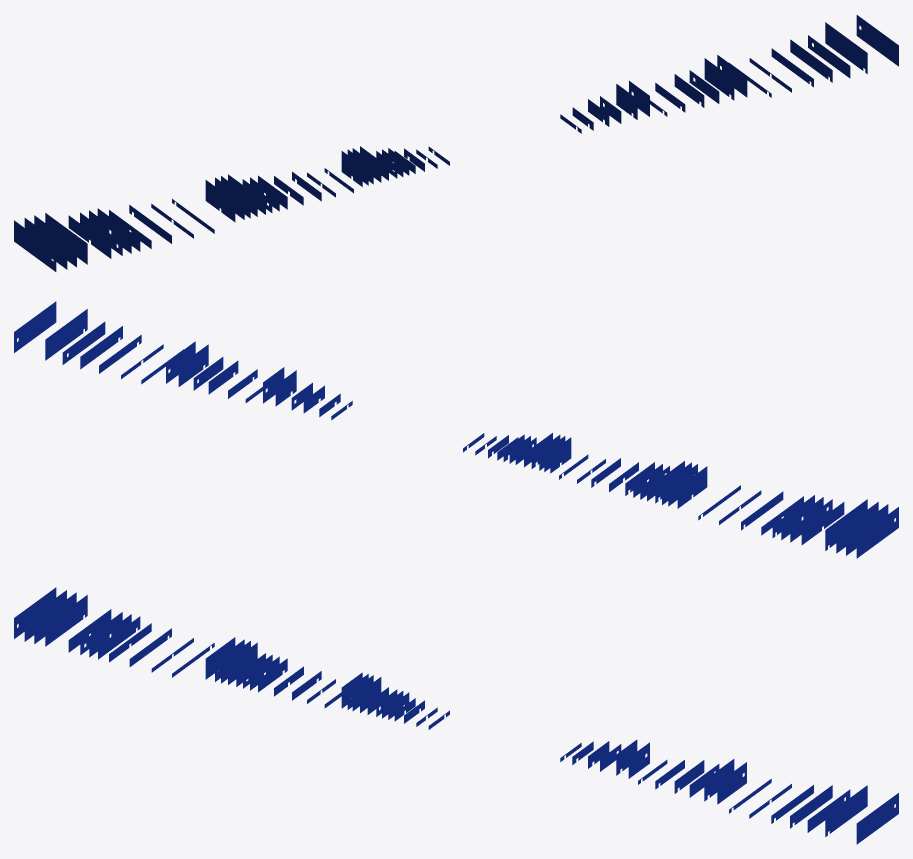
File: All wall Plane Sizes.FBX
3 renders of one model, top to bottom at view 1: azimuth 30°, elevation 25°; view 2: azimuth 150°, elevation 25°; view 3: azimuth 330°, elevation 25°, orthographic.
Visible parts, largest first — view 1: Box158, Box188, Box174, Box083, Box183, Box086, Box113, Box087, Box185, Box186, Box157, Box184; view 2: Box158, Box188, Box174, Box183, Box083, Box113, Box086, Box186, Box087, Box185, Box157, Box156; view 3: Box188, Box113, Box174, Box184, Box157, Box158, Box155, Box185, Box086, Box153, Box087, Box183.
Part boxes in pixels (<box>): Box158: <box>14,220,56,271</box>; Box188: <box>856,15,898,66</box>; Box174: <box>825,22,867,73</box>; Box083: <box>205,180,235,222</box>; Box183: <box>704,58,734,100</box>; Box086: <box>24,218,67,269</box>; Box113: <box>45,213,87,264</box>; Box087: <box>68,215,111,258</box>; Box185: <box>790,39,832,82</box>; Box186: <box>808,35,850,78</box>; Box157: <box>34,215,76,267</box>; Box184: <box>717,55,747,97</box>; Box158: <box>856,507,898,558</box>; Box188: <box>14,301,56,352</box>; Box174: <box>45,309,87,360</box>; Box183: <box>178,344,208,386</box>; Box083: <box>677,466,707,508</box>; Box113: <box>825,499,867,550</box>; Box086: <box>846,504,888,555</box>; Box186: <box>62,321,105,364</box>; Box087: <box>801,502,844,544</box>; Box185: <box>80,326,122,369</box>; Box157: <box>836,502,878,553</box>; Box156: <box>790,499,832,542</box>; Box188: <box>856,793,898,844</box>; Box113: <box>45,595,87,646</box>; Box174: <box>825,785,867,836</box>; Box184: <box>717,762,746,804</box>; Box157: <box>34,592,76,643</box>; Box158: <box>14,587,56,638</box>; Box155: <box>98,616,140,659</box>; Box185: <box>790,785,832,828</box>; Box086: <box>24,590,66,641</box>; Box153: <box>228,642,257,684</box>; Box087: <box>68,609,111,652</box>; Box183: <box>704,759,734,801</box>.
Size of the model in its own units: 1034 by 25 by 90.67.
